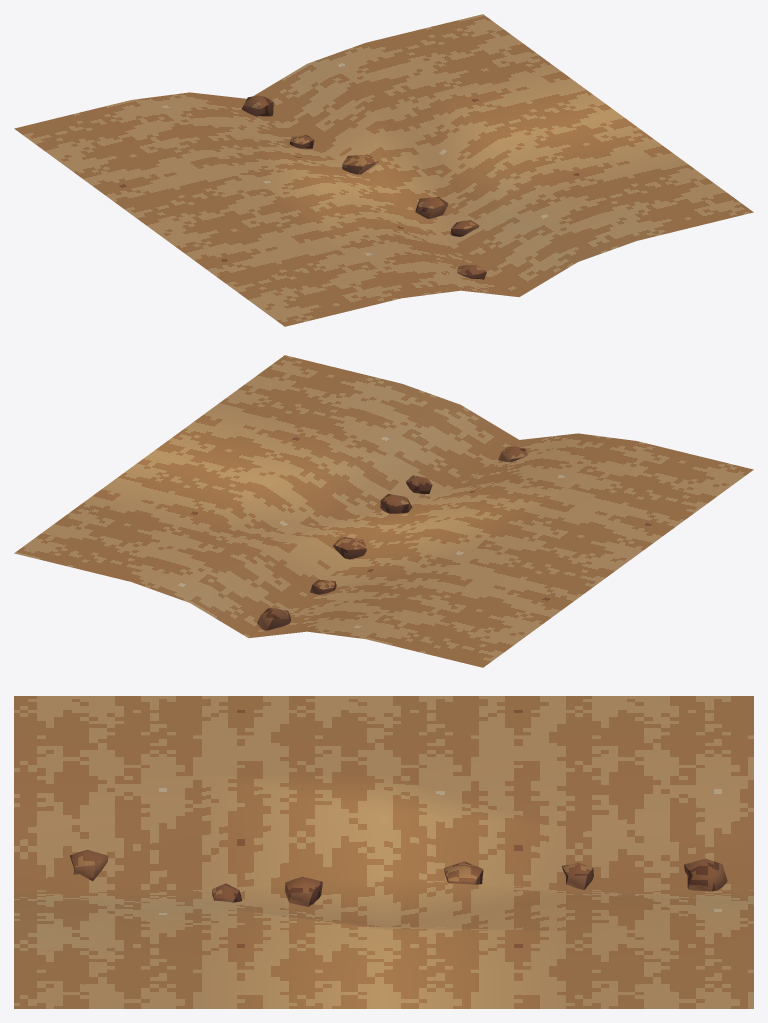
Rendered from land.wash.glb.
3 views of the same model, one above another, from view 1: azimuth 30°, elevation 25°; view 2: azimuth 150°, elevation 25°; view 3: azimuth 270°, elevation 25° (orthographic). The views are drawn at different scales.
Visible parts, largest first — view 1: kit_shell_ground, kit_pebbles; view 2: kit_shell_ground, kit_pebbles; view 3: kit_shell_ground, kit_pebbles.
Part boxes in pixels (<box>): kit_shell_ground: <box>14,14,753,326</box>; kit_pebbles: <box>241,95,486,279</box>; kit_shell_ground: <box>14,355,753,667</box>; kit_pebbles: <box>257,446,527,630</box>; kit_shell_ground: <box>14,696,753,1008</box>; kit_pebbles: <box>70,850,727,906</box>.
Size of the model in its own units: 8 by 0.45 by 8.
2 materials, 2 textured.
